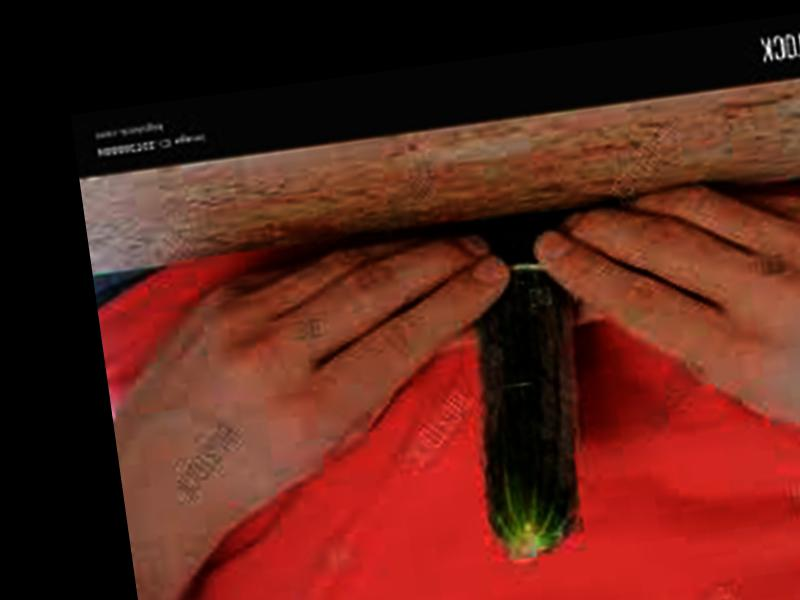Cucumber: (447, 213, 604, 562)
